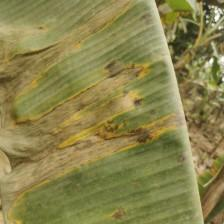pestalotiopsis: (0, 0, 202, 224)
